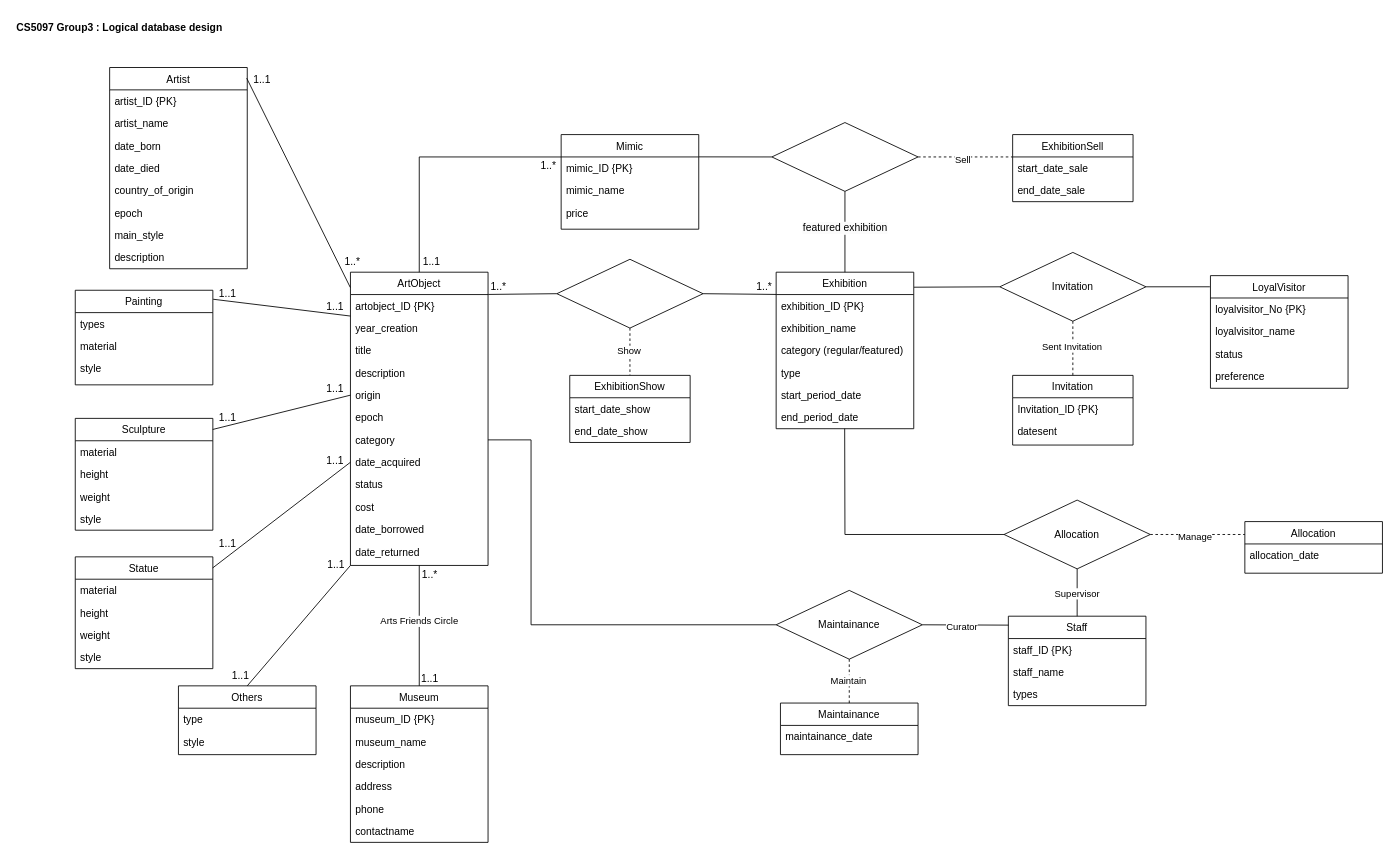
Some shapes in this 1398 by 859 pixel diagram are drawn without their labels. Each missing label, with the centre of its shape:
Sell mimic in featured exhibition: the point at 844,156
Show Art Object in exhibition: the point at 629,293
